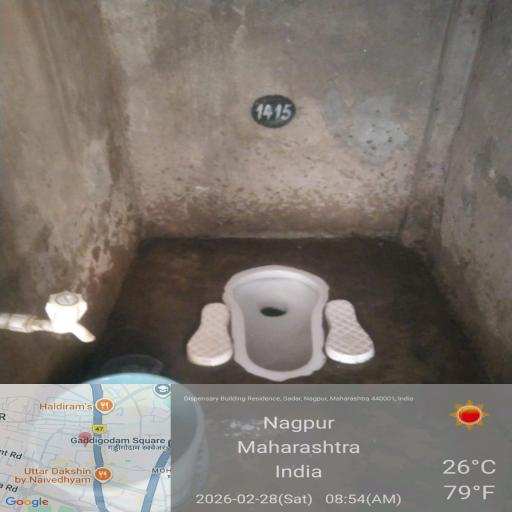clean_indian: (182, 242, 435, 392)
partial_dirty_floor: (17, 5, 498, 239), (78, 322, 512, 512)
